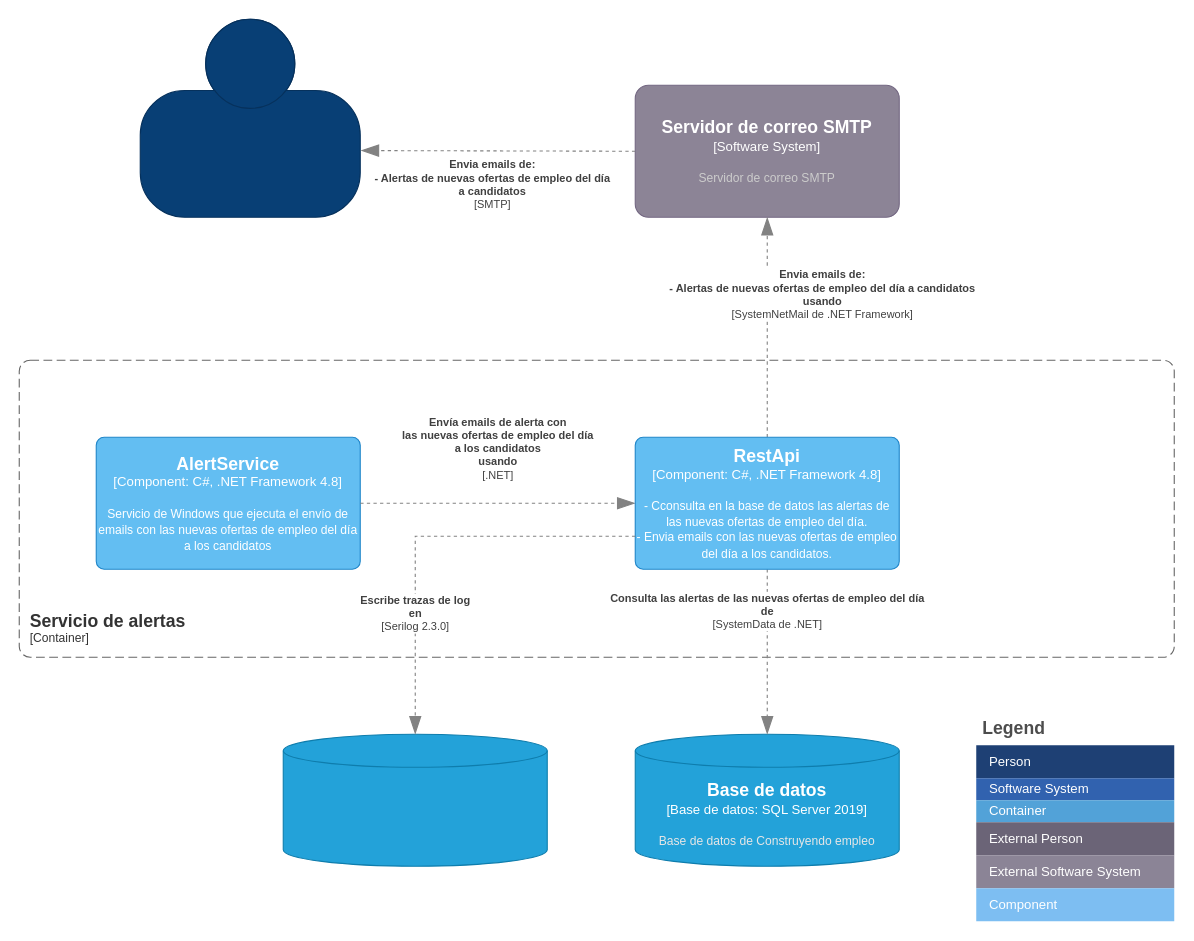
This 1194x941 diagram has some shape labels left out. The centre of each missing label's shape, as x and y in pixels:
"Sistema de archivos [Sistema de archivos: Microsoft Windows] Archivos de log" goes at (x=414, y=799).
"Usuario Candidato [Person] Usuario de tipo Candidato" goes at (x=249, y=117).
